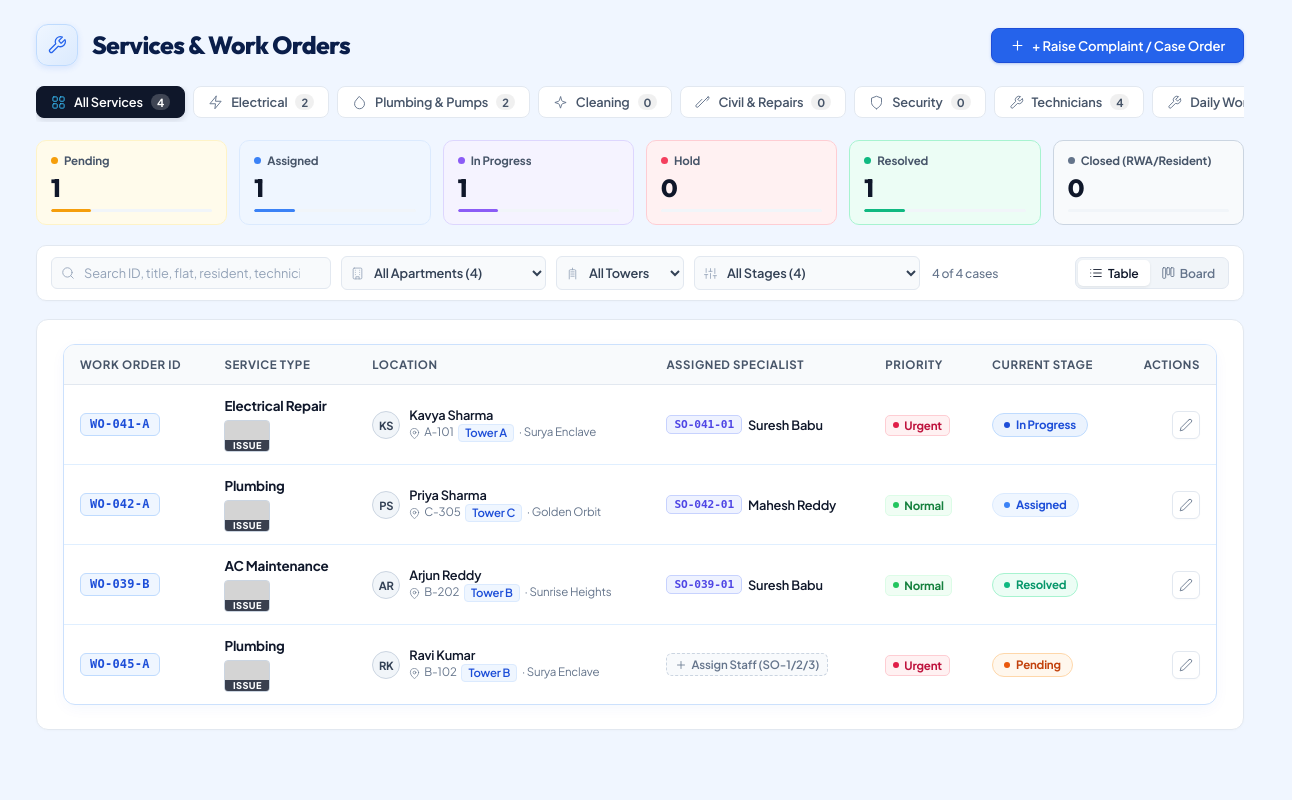
it: Services Management Page & Hierarchy Flow › filters requests apartment-wise and tower-wise with dynamic counts and reset functionality
Expected: the text "4 of 4 cases" is shown, [932, 265, 998, 281]
// Filter Apartment to "Surya Enclave"
Select "Surya Enclave (2)" in the dropdown named "Filter by Apartment" at [444, 273], box [341, 256, 546, 290]
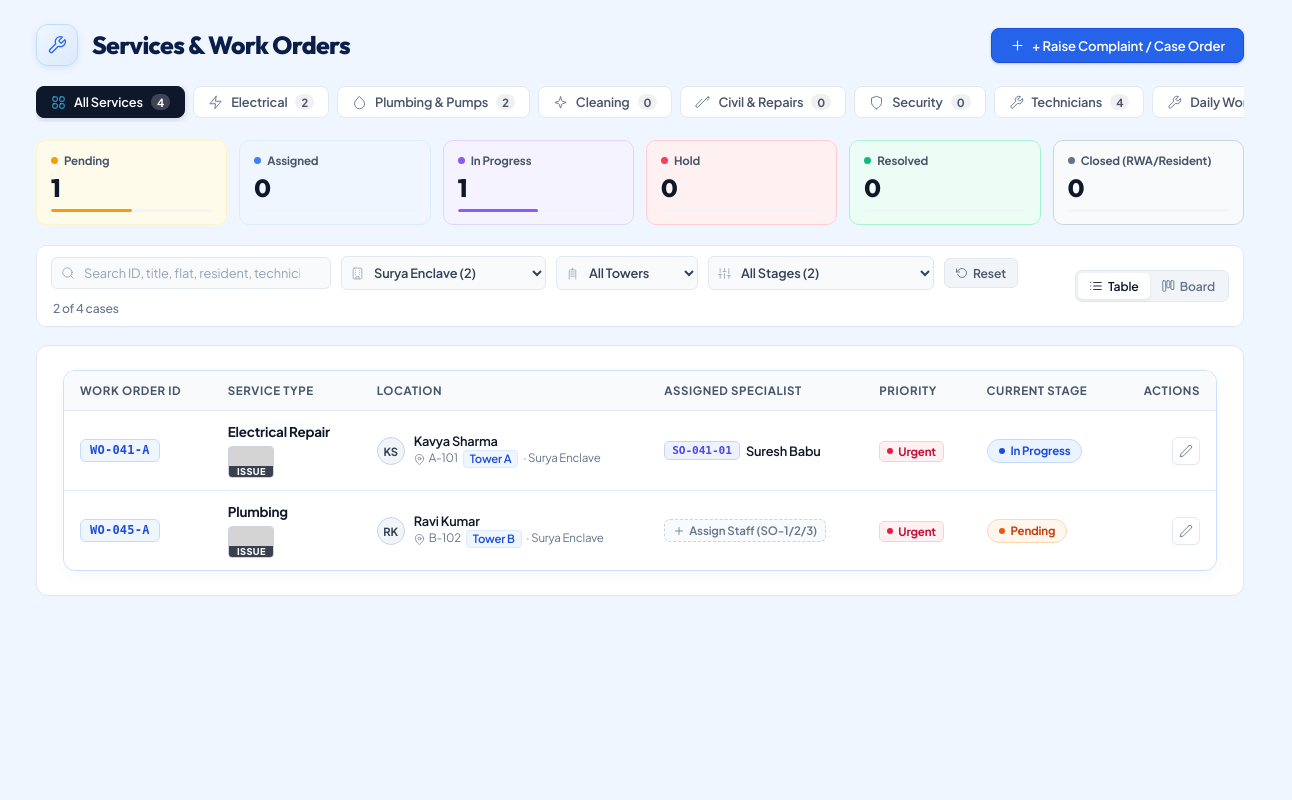
Expected: the text "REQ-1002" is not shown
Now the text "2 of 4 cases" is shown, box [53, 300, 119, 316]
// Further Filter Tower to "Tower B"
Select "Tower B (1)" in the dropdown named "Filter by Tower" at [627, 273], box [556, 256, 698, 290]
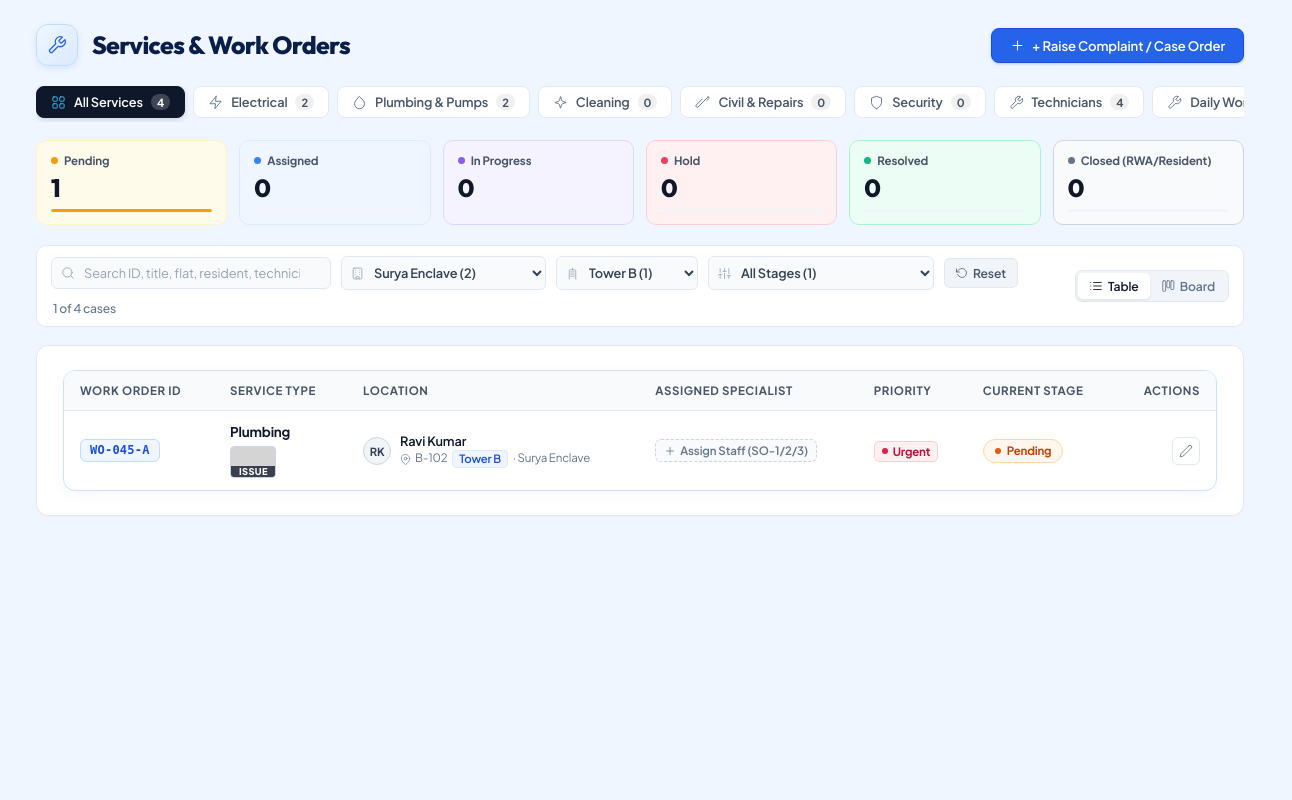
Expected: the text "REQ-1001" is not shown
Now the button "Reset" is shown
Now the text "1 of 4 cases" is shown, box [53, 300, 116, 316]
Click the button "Reset".
click(981, 273)  # box [944, 258, 1018, 288]
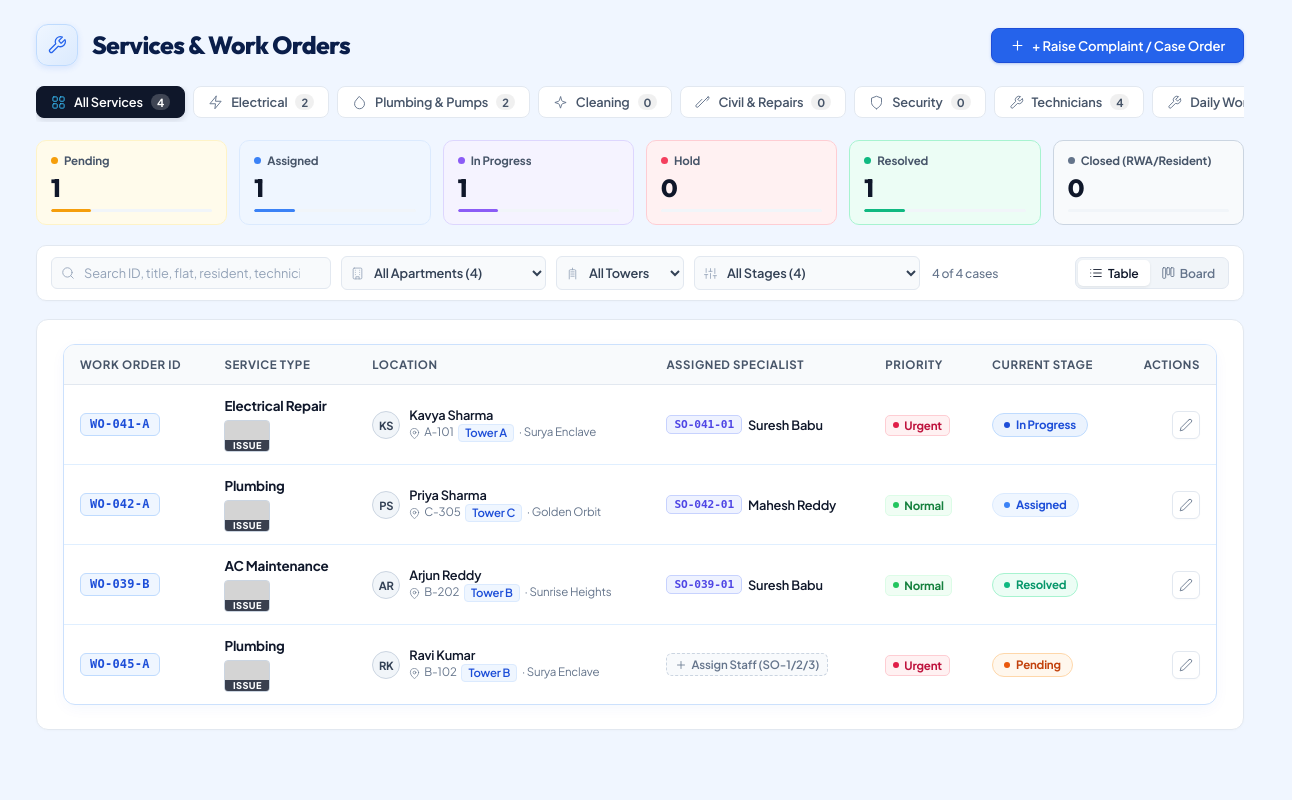
Now the text "4 of 4 cases" is shown, box [932, 265, 998, 281]
